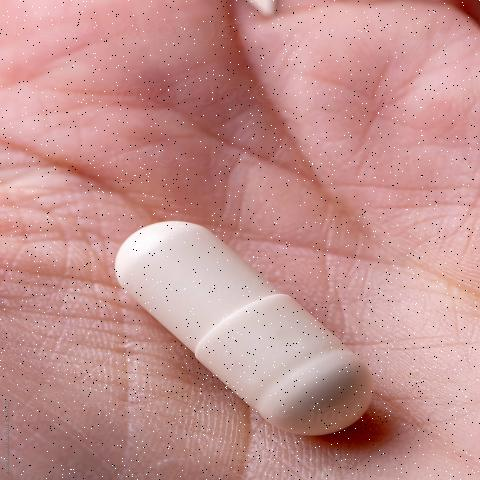hands: (71, 187, 396, 462)
